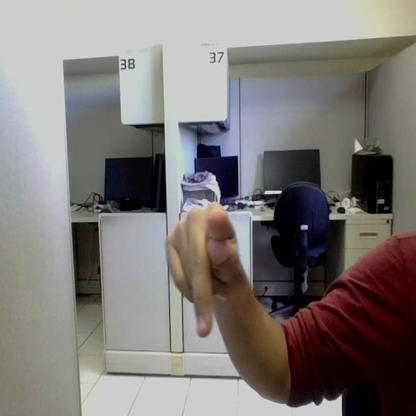P: (166, 205, 242, 337)
